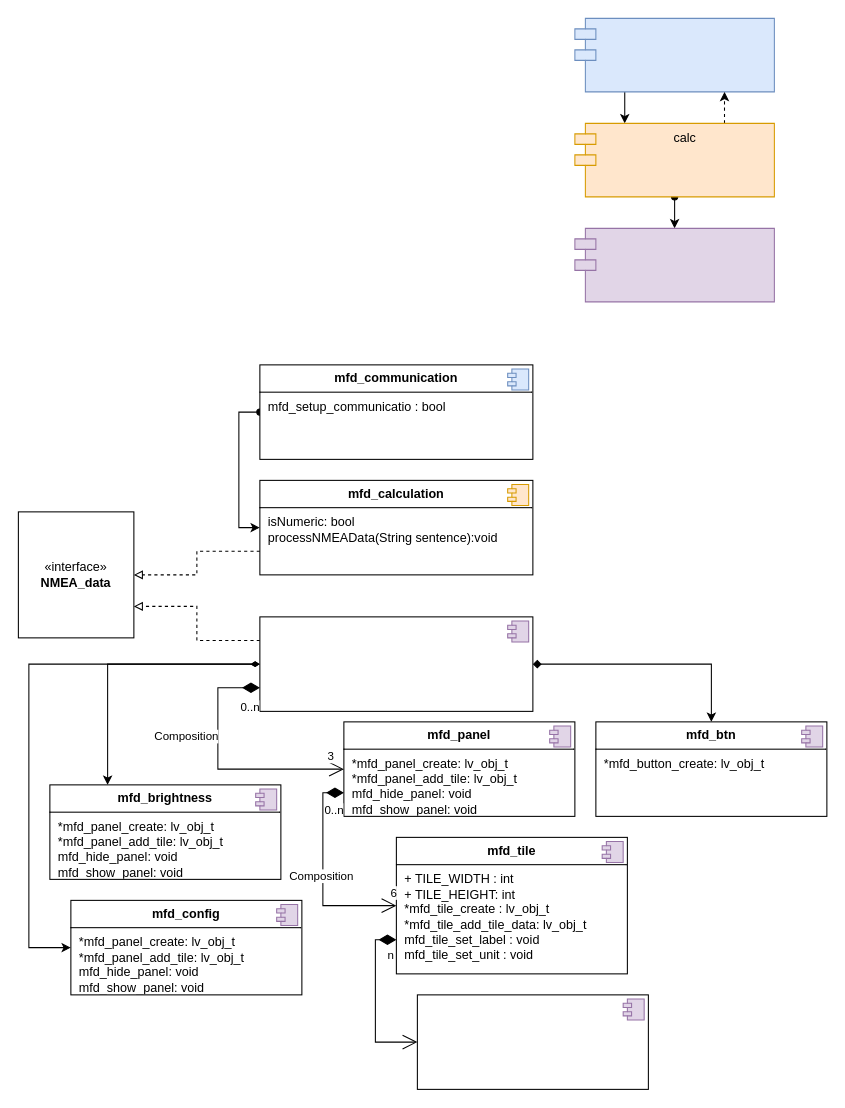
This 845x1108 diagram has some shape labels left out. Here are the shapes that lost their labels. From the top down, the box of each, then its label:
(574, 17, 774, 92): coms
(574, 227, 774, 302): ui
(259, 616, 533, 711): screen_main *screen_main_create: lv_obj_t test_screen_data_updates: void
(416, 994, 648, 1089): mfd_tile_data *mfd_tile_dat_create: lv_obj_t
